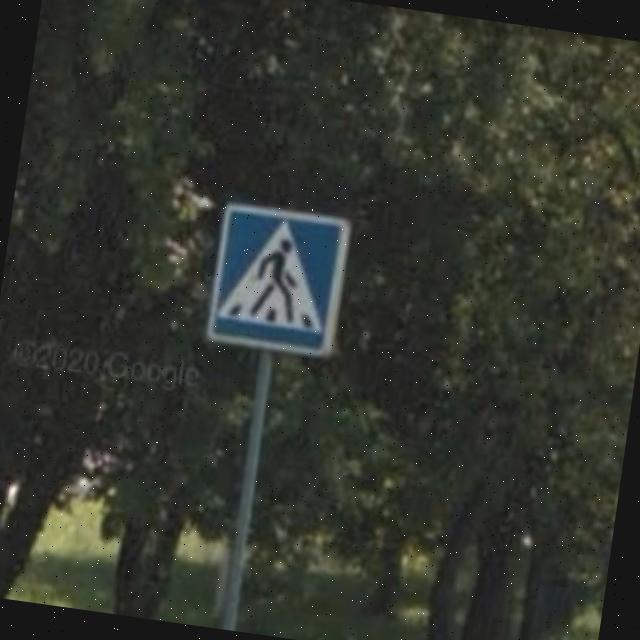Przejscie dla pieszych: (195, 188, 362, 371)
